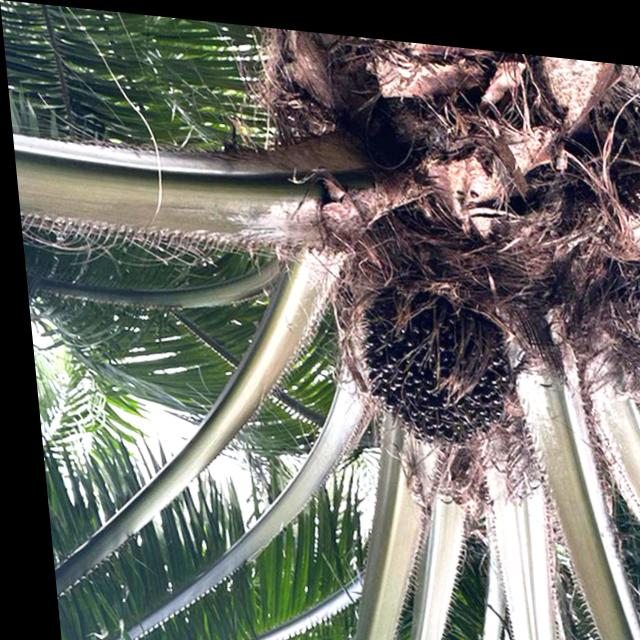unripe: (340, 266, 517, 451)
